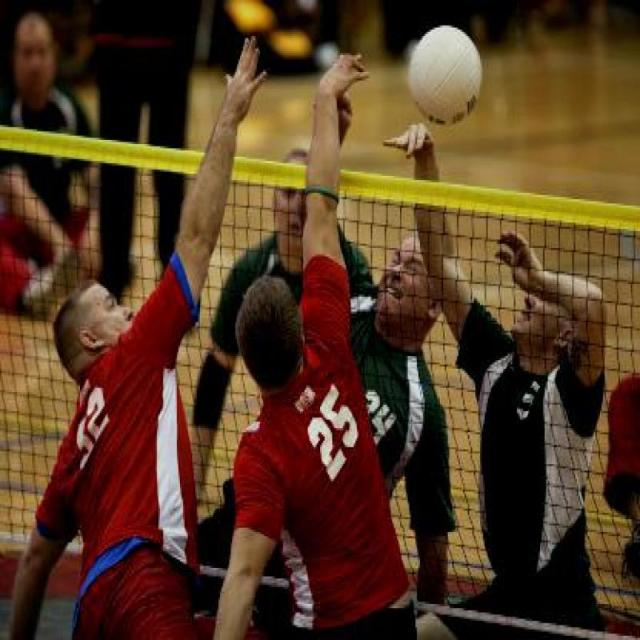volleyball: (408, 21, 484, 129)
